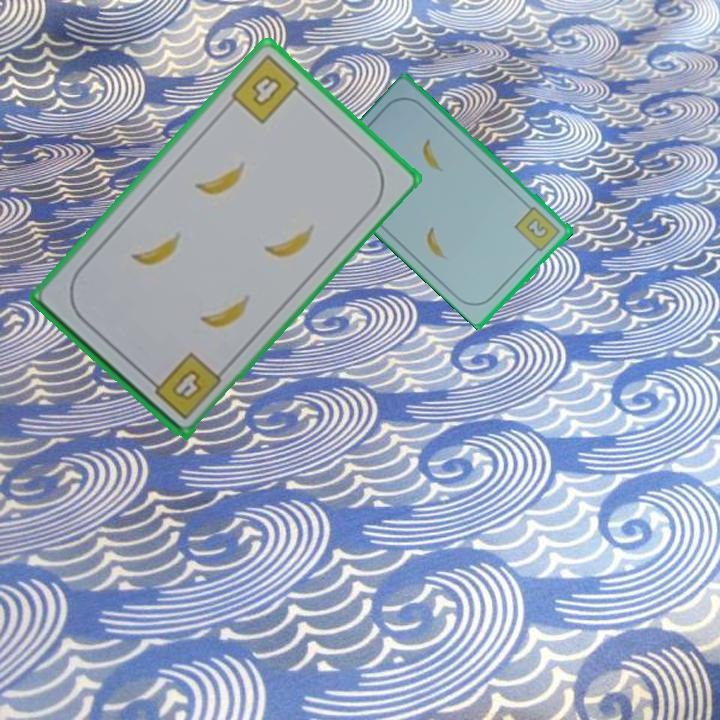2b: (512, 203, 564, 257)
4b: (227, 51, 309, 127), (144, 348, 225, 423)
